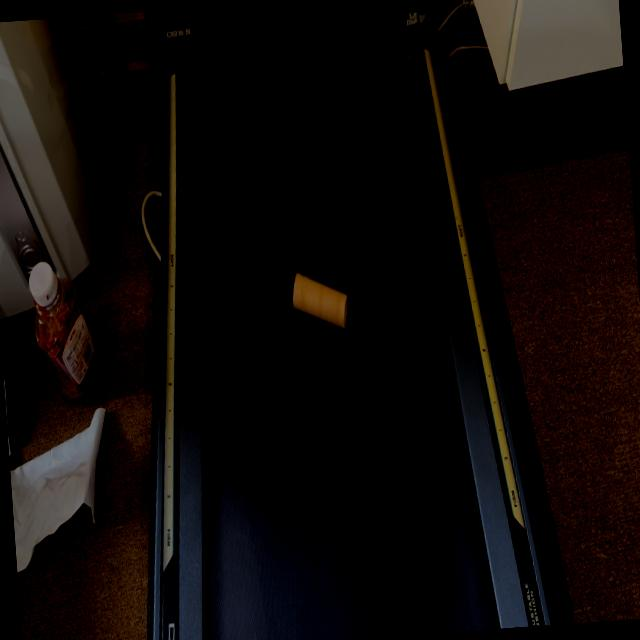Recycle: (288, 266, 352, 338)
